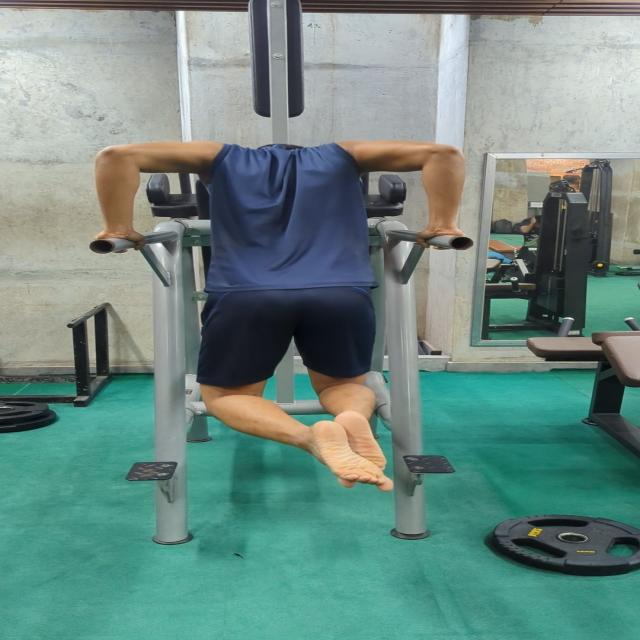Normal_Dips: (74, 135, 519, 497)
